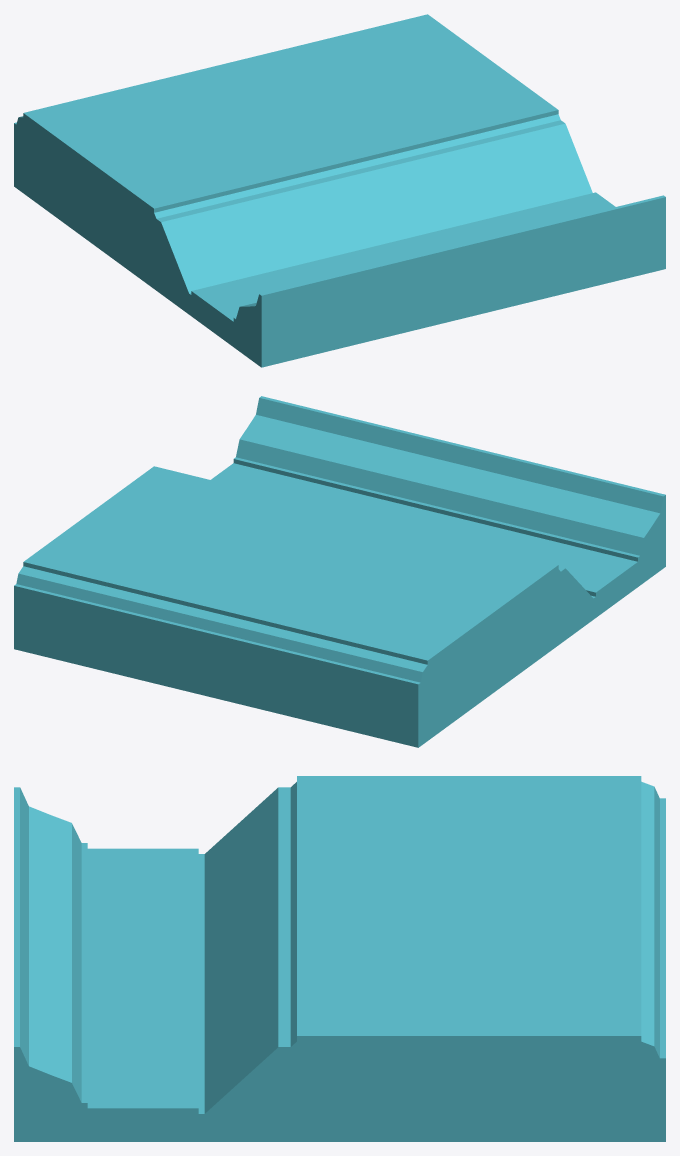
The model's file is classic_full_edge.glb.
The picture shows the model from 3 angles, top to bottom: view 1: azimuth 30°, elevation 25°; view 2: azimuth 150°, elevation 25°; view 3: azimuth 270°, elevation 25°; orthographic projection. The views are drawn at different scales.
Visible parts, largest first — view 1: VIFS001; view 2: VIFS001; view 3: VIFS001.
Part boxes in pixels (x1,y1,x2,y2): VIFS001: (14,14,665,367); VIFS001: (14,396,665,747); VIFS001: (14,776,665,1141).
Bounding box in the file's own units: 0.1 × 0.019 × 0.106.
